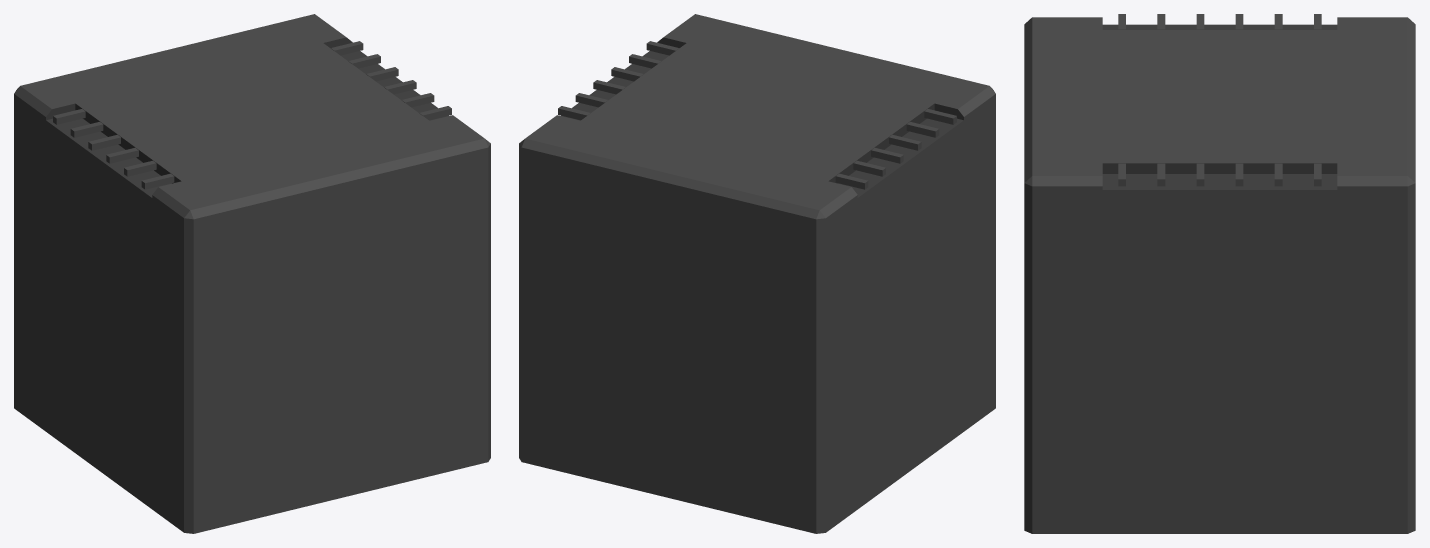
The model's file is HJD_SFB_Platform_02.fbx.
The picture shows the model from 3 angles, left to right: view 1: azimuth 30°, elevation 25°; view 2: azimuth 150°, elevation 25°; view 3: azimuth 270°, elevation 25°; orthographic projection. The views are drawn at different scales.
Parts seen in each view (by area): view 1: HJD_SFB_Asset; view 2: HJD_SFB_Asset; view 3: HJD_SFB_Asset.
Boxes of the visible parts, x1,y1,x2,y2 form: HJD_SFB_Asset: [14, 14, 490, 533]; HJD_SFB_Asset: [519, 14, 995, 533]; HJD_SFB_Asset: [1024, 14, 1415, 533].
Size of the model in its own units: 100 by 100 by 100.
